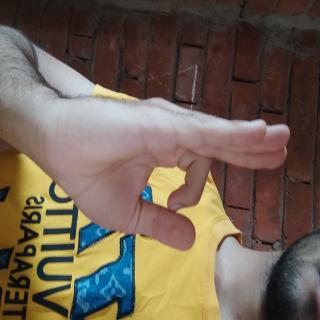Space: (59, 34, 195, 320)
